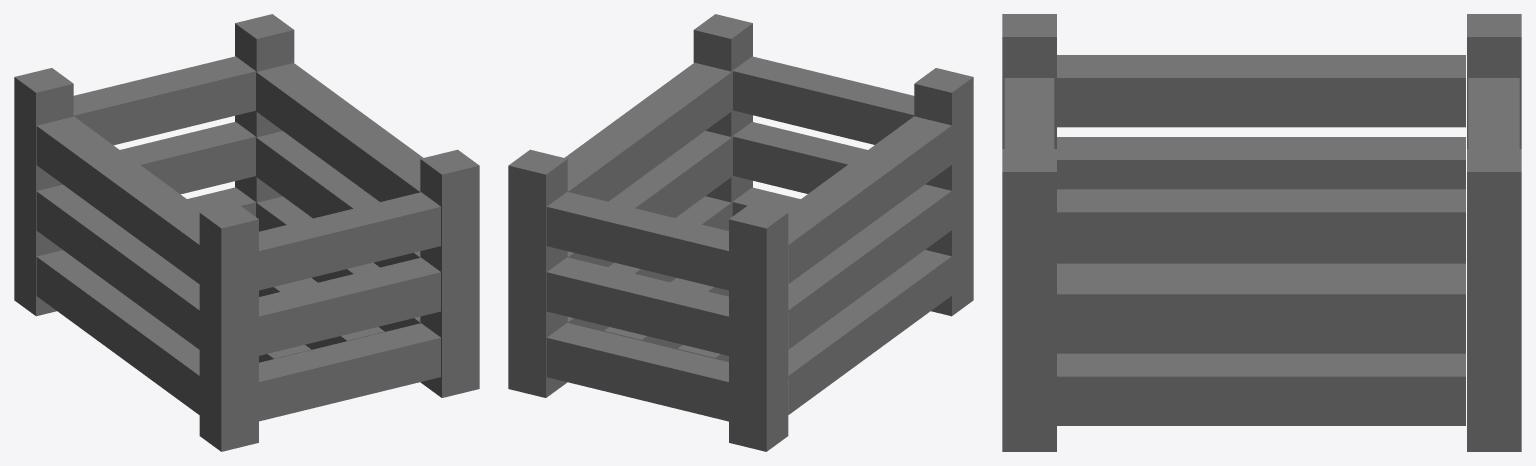
File: wooden_basket_1.FBX
The picture shows the model from 3 angles, left to right: view 1: azimuth 30°, elevation 25°; view 2: azimuth 150°, elevation 25°; view 3: azimuth 270°, elevation 25°; orthographic projection. The views are drawn at different scales.
Visible parts, largest first — view 1: wooden_basket_1; view 2: wooden_basket_1; view 3: wooden_basket_1.
Boxes of the visible parts, bbox=[...] form: wooden_basket_1: bbox=[14, 14, 479, 451]; wooden_basket_1: bbox=[508, 14, 973, 451]; wooden_basket_1: bbox=[1002, 14, 1521, 451].
Bounding box in the file's own units: 0.562 × 0.4649 × 0.7807.
1 material, 1 textured.
